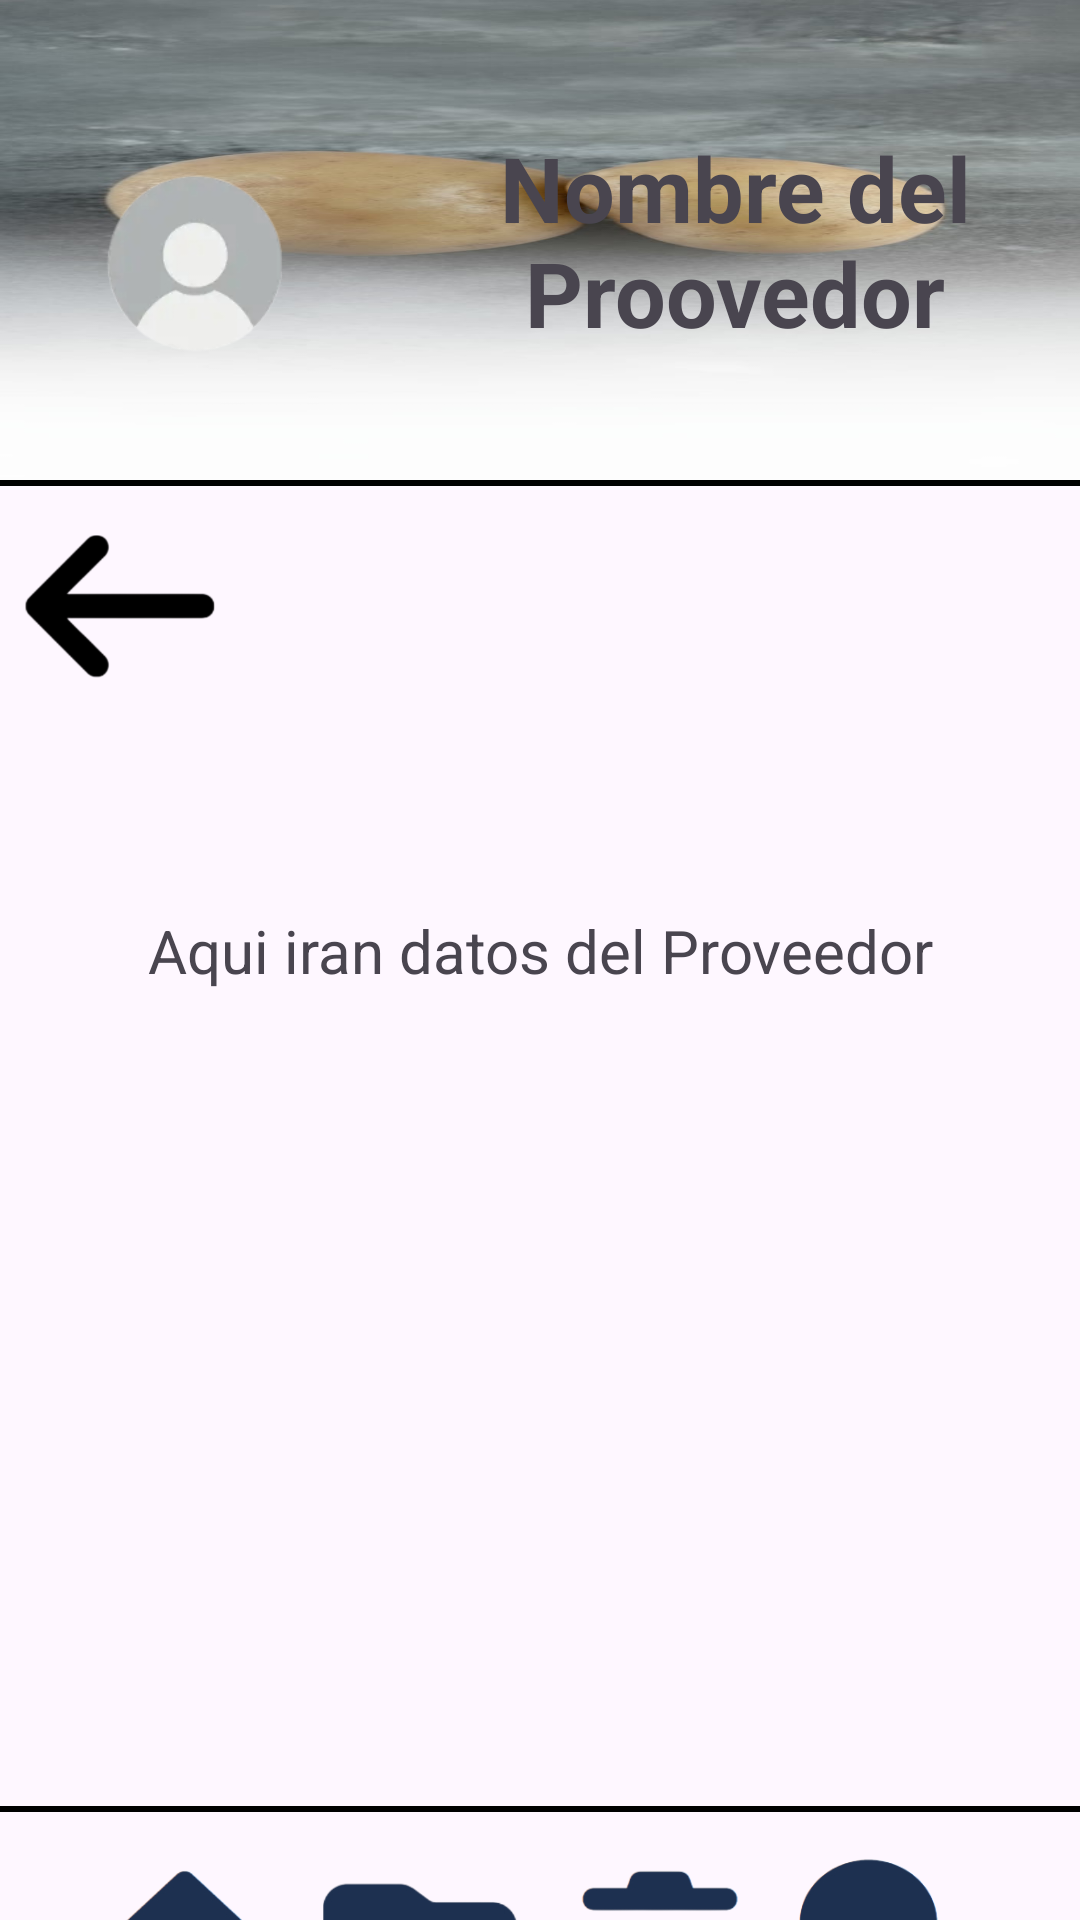

Icons on this 1080x1920 Android screen, each with its box as (x1, y1, x2, y2):
flecha: (25, 535, 215, 678)
